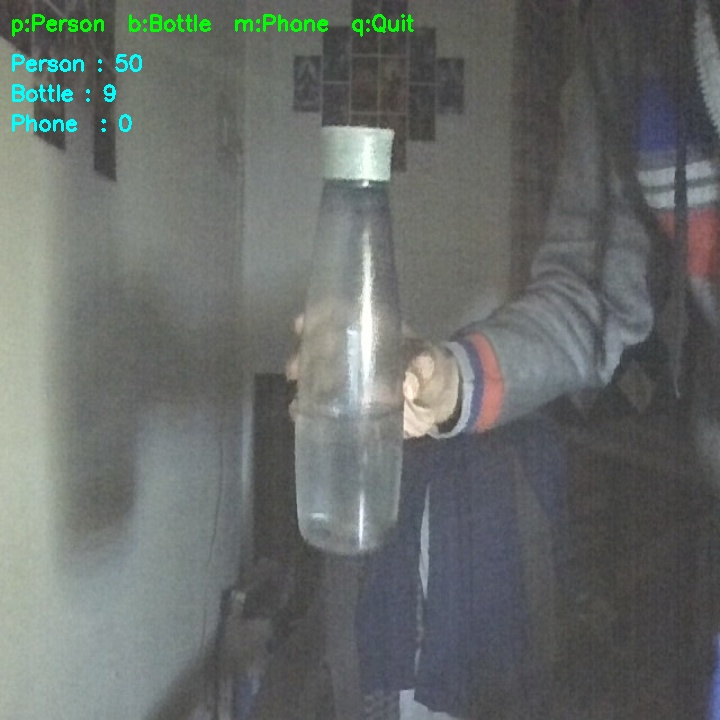bottle: (295, 123, 409, 553)
